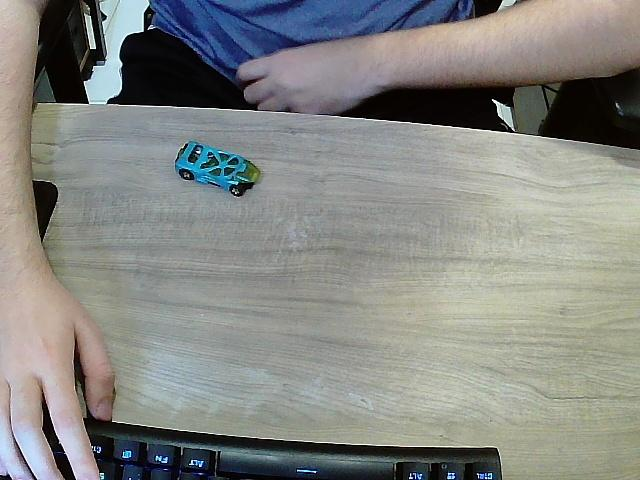Carro: (173, 143, 263, 197)
